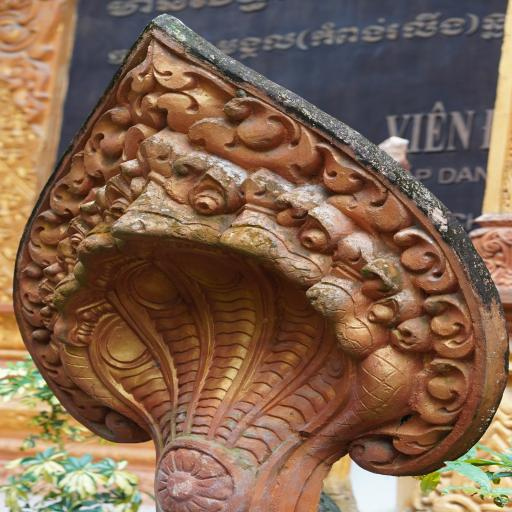ran: (7, 15, 512, 512)
